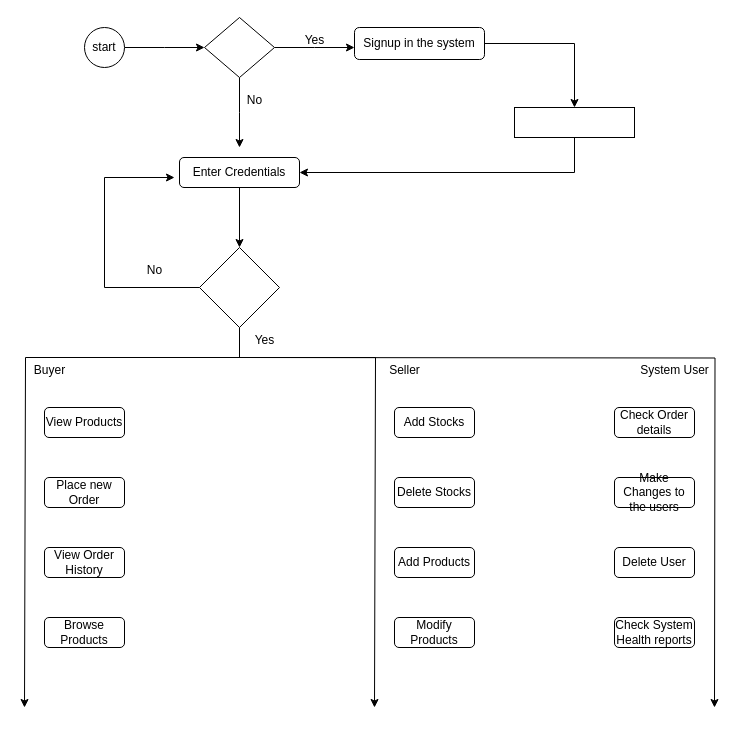
This 741x733 diagram has some shape labels left out. Each missing label, with the centre of its shape:
"Generate Credentials" goes at point (574, 122).
"New" goes at point (239, 47).
"Valid Credentials" goes at point (239, 287).
